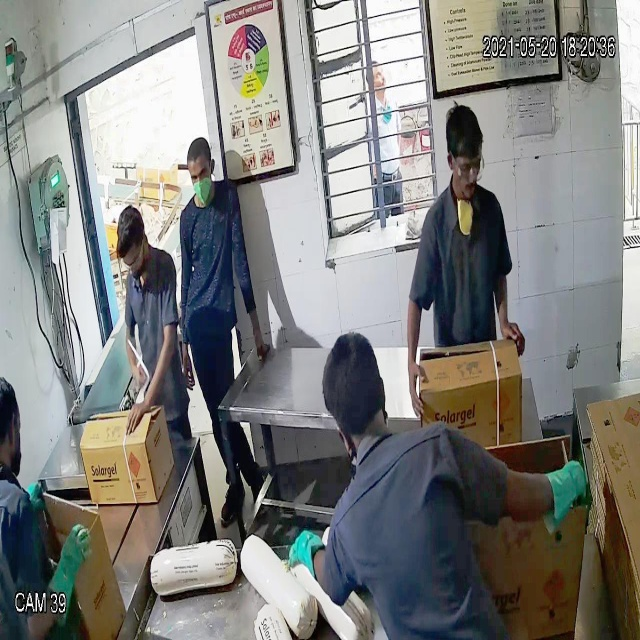Gafas: (448, 142, 488, 183)
Sin_gafas: (188, 162, 212, 185)
